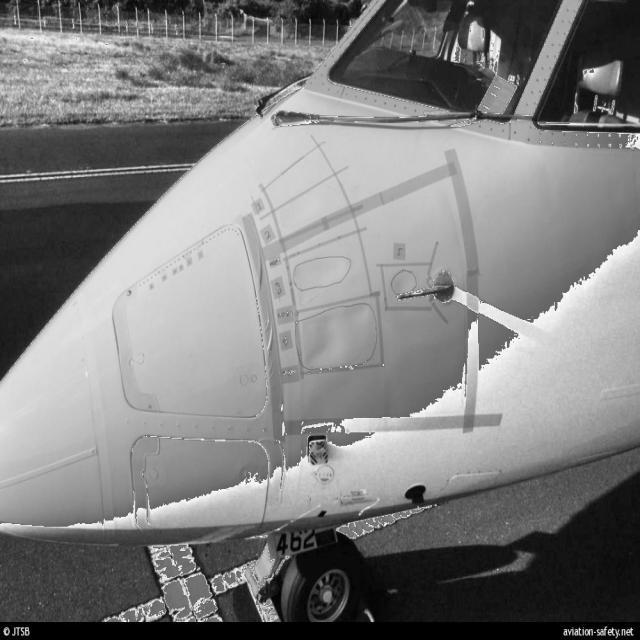dent: (303, 303, 370, 370)
